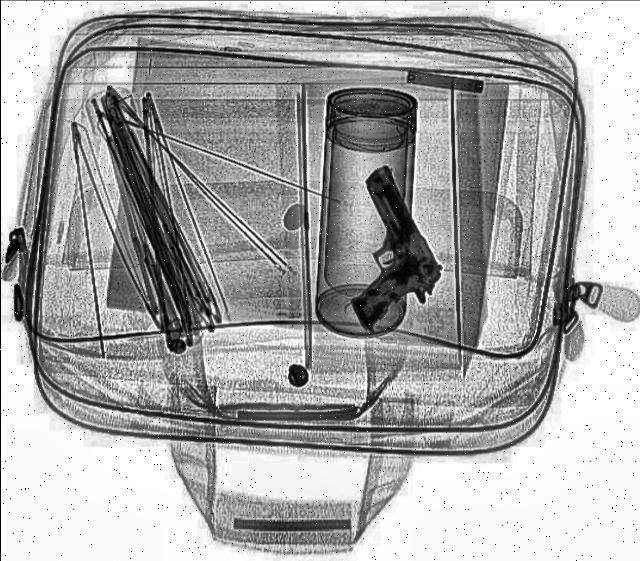Gun: (296, 166, 454, 330)
